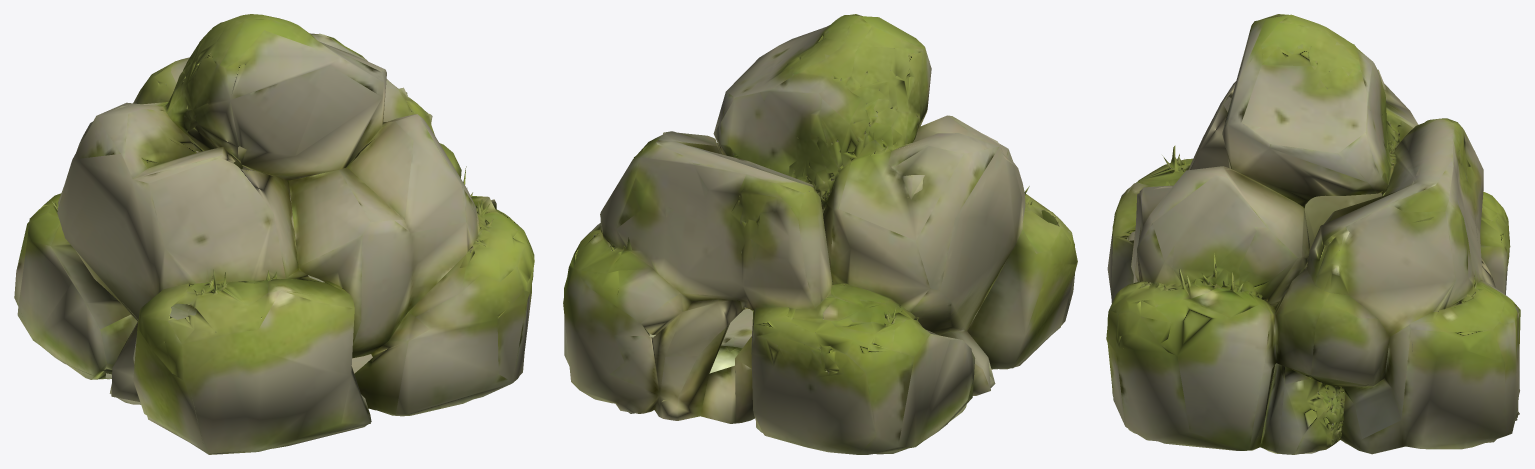
3 renders of one model, left to right at view 1: azimuth 30°, elevation 25°; view 2: azimuth 150°, elevation 25°; view 3: azimuth 270°, elevation 25°, orthographic. The views are drawn at different scales.
Visible parts, largest first — view 1: world; view 2: world; view 3: world.
Boxes of the visible parts, x1=… form: world: x1=14, y1=14, x2=534, y2=454; world: x1=563, y1=14, x2=1077, y2=454; world: x1=1106, y1=14, x2=1520, y2=454.
Bounding box in the file's own units: 0.9961 × 0.9082 × 0.9854.
1 material, 1 textured.
